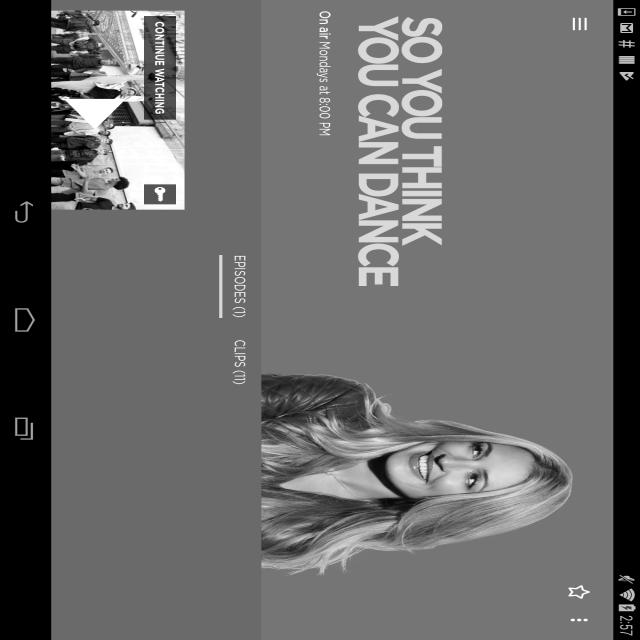ImageButton: (9, 19, 68, 57)
ImageView: (17, 67, 487, 186), (17, 284, 336, 396), (505, 16, 640, 236), (114, 284, 238, 396), (295, 290, 327, 310)
TextView: (17, 192, 390, 202), (25, 290, 192, 310), (408, 245, 509, 255), (543, 245, 615, 255)
